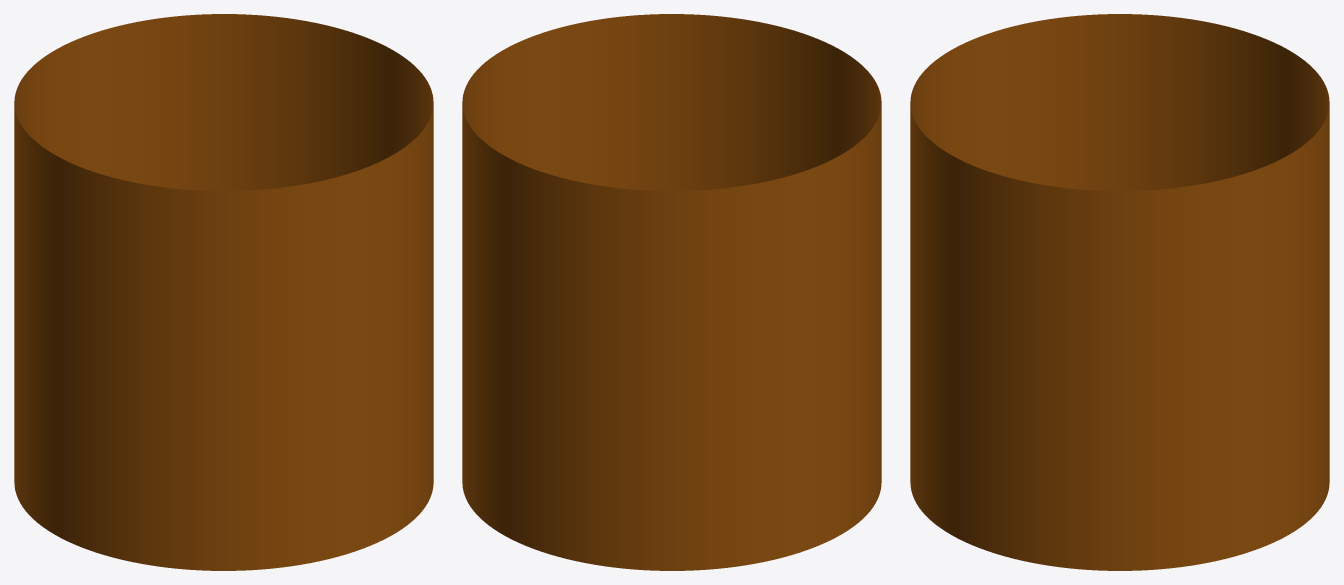
File: world.obj
The picture shows the model from 3 angles, left to right: view 1: azimuth 30°, elevation 25°; view 2: azimuth 150°, elevation 25°; view 3: azimuth 270°, elevation 25°; orthographic projection.
Parts seen in each view (by area): view 1: Cylinder_Cylinder.002; view 2: Cylinder_Cylinder.002; view 3: Cylinder_Cylinder.002.
Part boxes in pixels (x1,y1,x2,y2): Cylinder_Cylinder.002: (14,14,433,570); Cylinder_Cylinder.002: (462,14,881,570); Cylinder_Cylinder.002: (910,14,1329,570).
Size of the model in its own units: 1 by 1 by 1.
